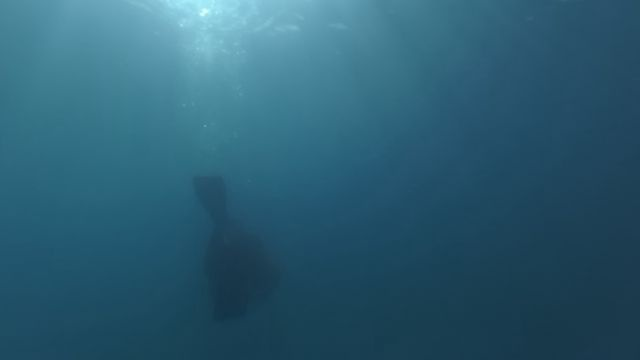Diver: (182, 164, 291, 331)
